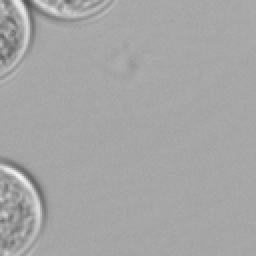picoshell: (0, 156, 46, 254), (28, 0, 116, 22)
